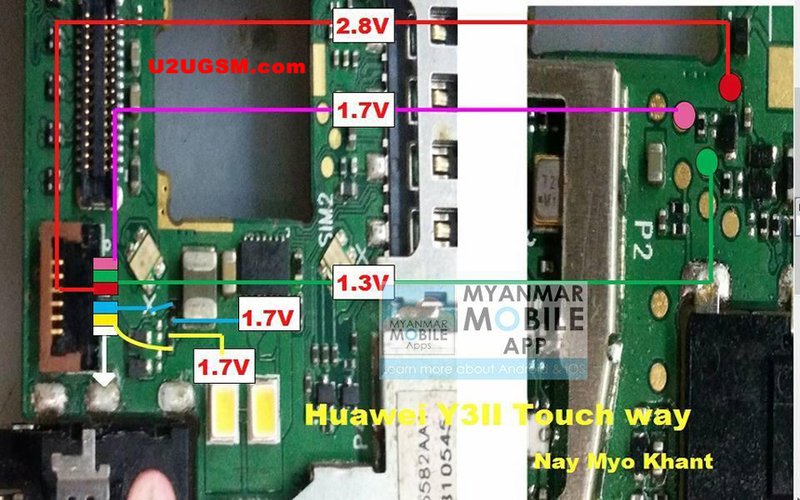Cirtuit-Board: (11, 9, 800, 500)
